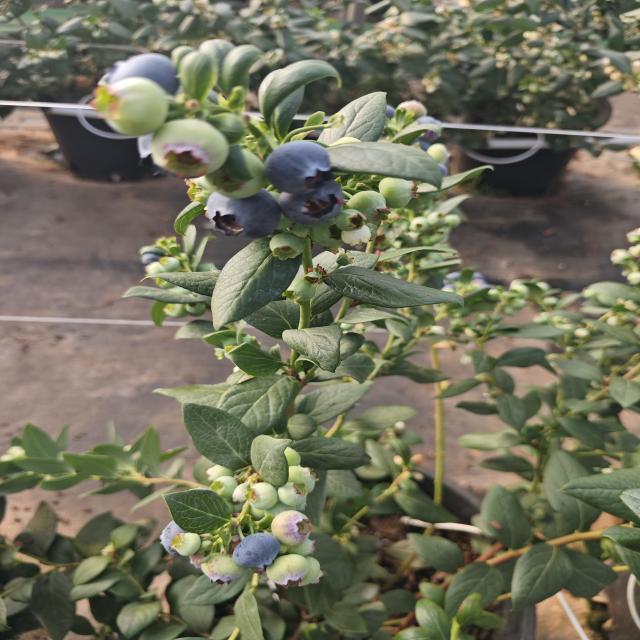ripe: (191, 186, 279, 244), (100, 44, 186, 97), (274, 181, 353, 229), (265, 140, 337, 192), (226, 530, 284, 572), (159, 514, 203, 562)
